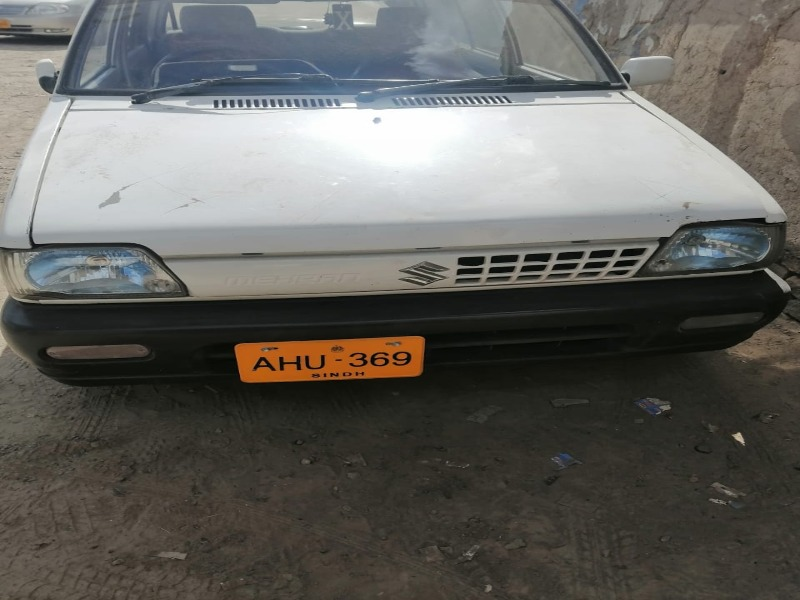License Plate: (229, 334, 429, 387)
